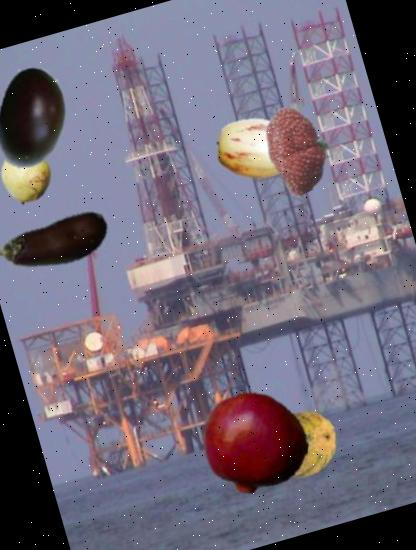Cantaloupe: (261, 401, 346, 486)
Eggplant: (0, 171, 127, 317), (0, 53, 95, 184)
Pear: (0, 120, 73, 213)
Pepino: (205, 92, 318, 204)
Pomegranate: (190, 377, 320, 508)
Strawberry: (244, 94, 353, 202)
